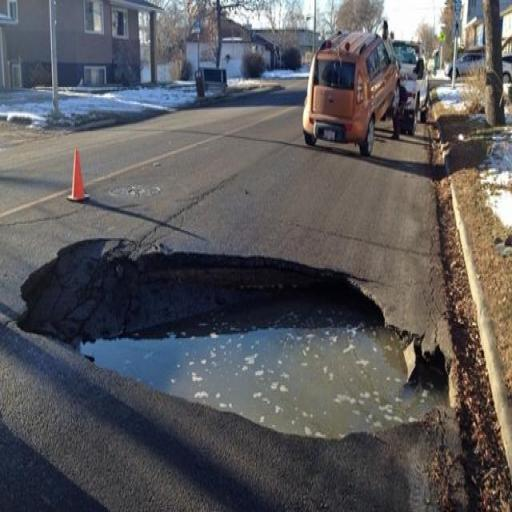Concentric_Crack: (19, 241, 448, 438)
